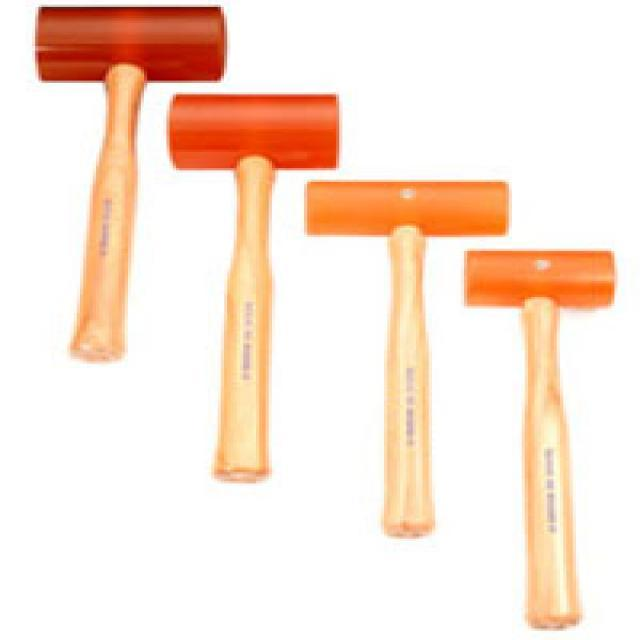hammer: (291, 172, 519, 554), (13, 1, 235, 366), (154, 86, 346, 499), (453, 241, 622, 636)
